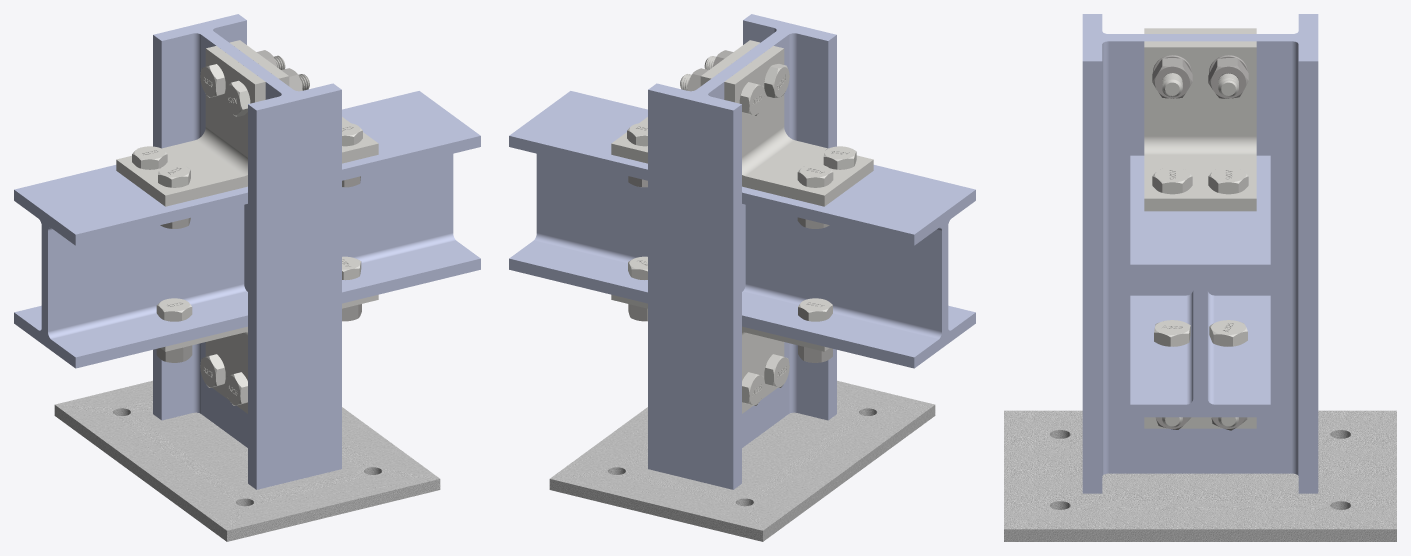
Rendered from steel-structure.glb.
3 renders of one model, left to right at view 1: azimuth 30°, elevation 25°; view 2: azimuth 150°, elevation 25°; view 3: azimuth 270°, elevation 25°, orthographic. The views are drawn at different scales.
Parts seen in each view (by area): view 1: Solid1 (×4); view 2: Solid1 (×4); view 3: Solid1 (×4).
Part boxes in pixels (x1,y1,x2,y2): Solid1 (×4): (14, 14, 480, 541); Solid1 (×4): (509, 14, 975, 541); Solid1 (×4): (1004, 14, 1396, 541).
Bounding box in the file's own units: 0.4826 × 0.4445 × 0.3556.
Materials: 5 (1 with a texture image).
